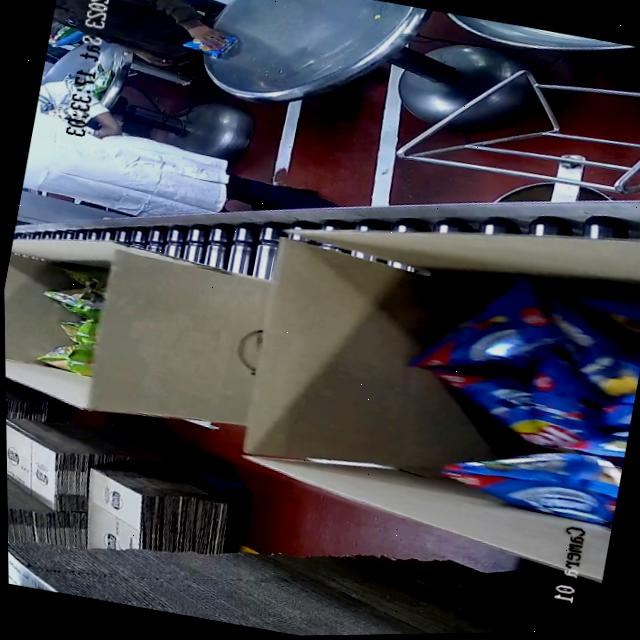PAPRIKA: (369, 245, 640, 535)
